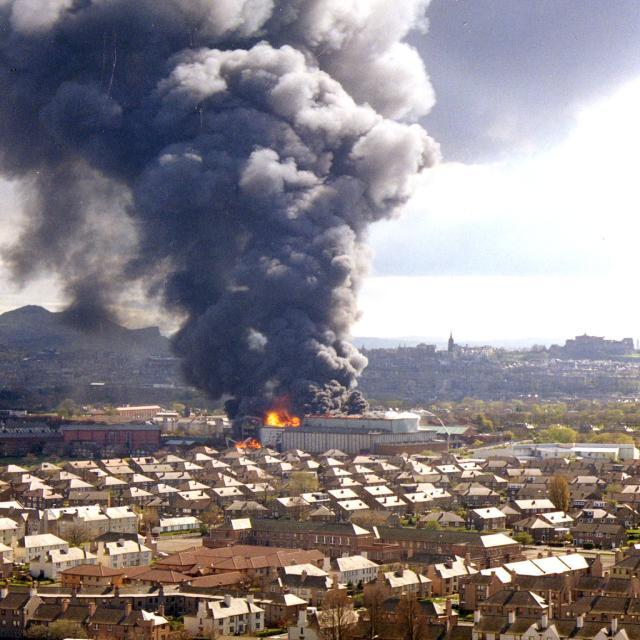Fire: (264, 411, 302, 431), (234, 434, 264, 452), (306, 411, 364, 419)
Smoke: (10, 8, 392, 393), (0, 97, 186, 343), (0, 170, 69, 319), (378, 42, 438, 112)
